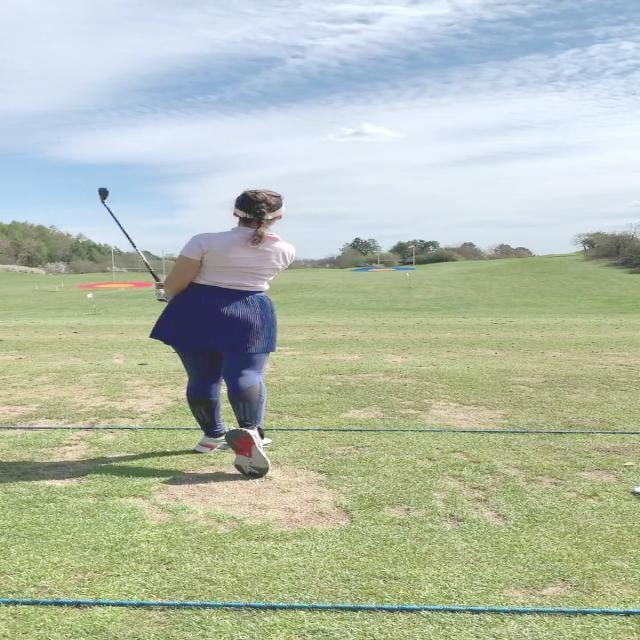ClubHead: (99, 186, 110, 202)
